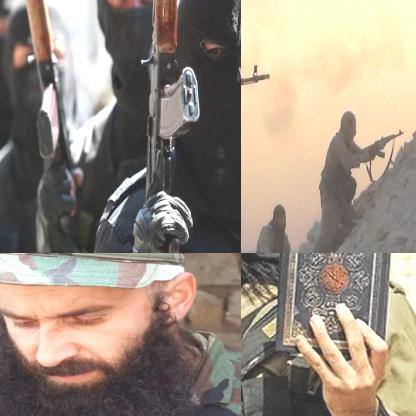rifle: (10, 0, 88, 226), (138, 0, 203, 249), (241, 62, 275, 139), (358, 129, 408, 165)
